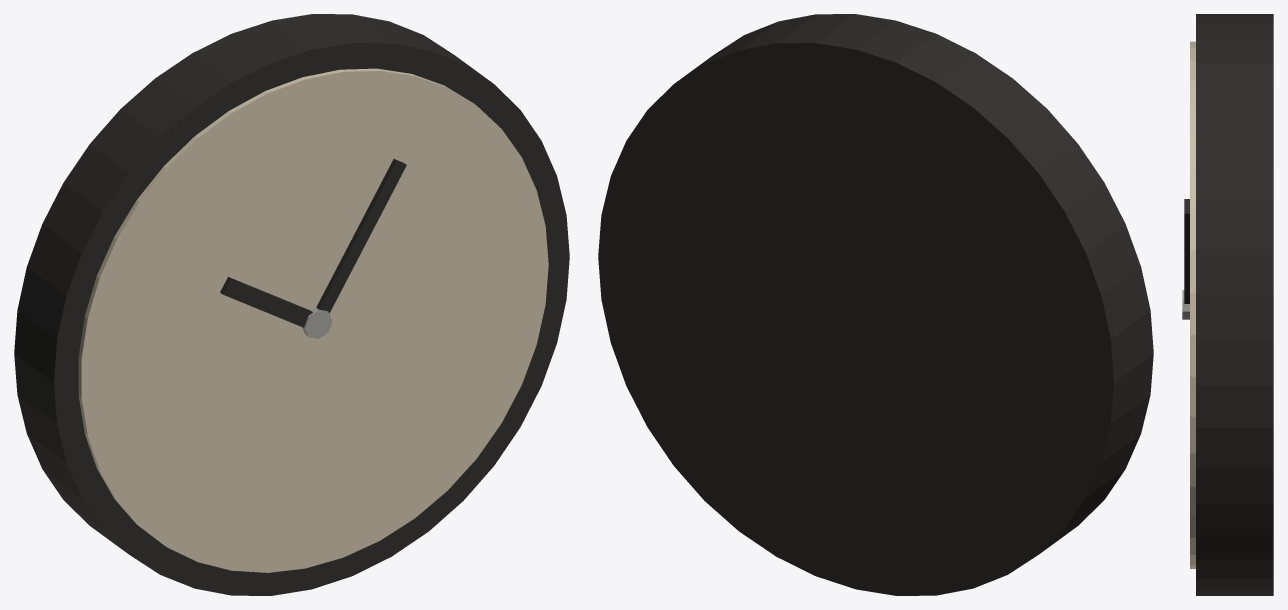
File: wall-clock.glb
3 renders of one model, left to right at view 1: azimuth 30°, elevation 25°; view 2: azimuth 150°, elevation 25°; view 3: azimuth 270°, elevation 25°, orthographic. The views are drawn at different scales.
Parts seen in each view (by area): view 1: paper, plastic-dark; view 2: plastic-dark; view 3: plastic-dark, paper, brushed.
Part boxes in pixels (x1,y1,x2,y2): paper: (78,68,548,572); plastic-dark: (14,14,569,595); plastic-dark: (598,14,1153,595); plastic-dark: (1184,14,1273,595); paper: (1190,41,1195,568); brushed: (1182,290,1189,319).
Size of the model in its own units: 0.3 by 0.3 by 0.047.
